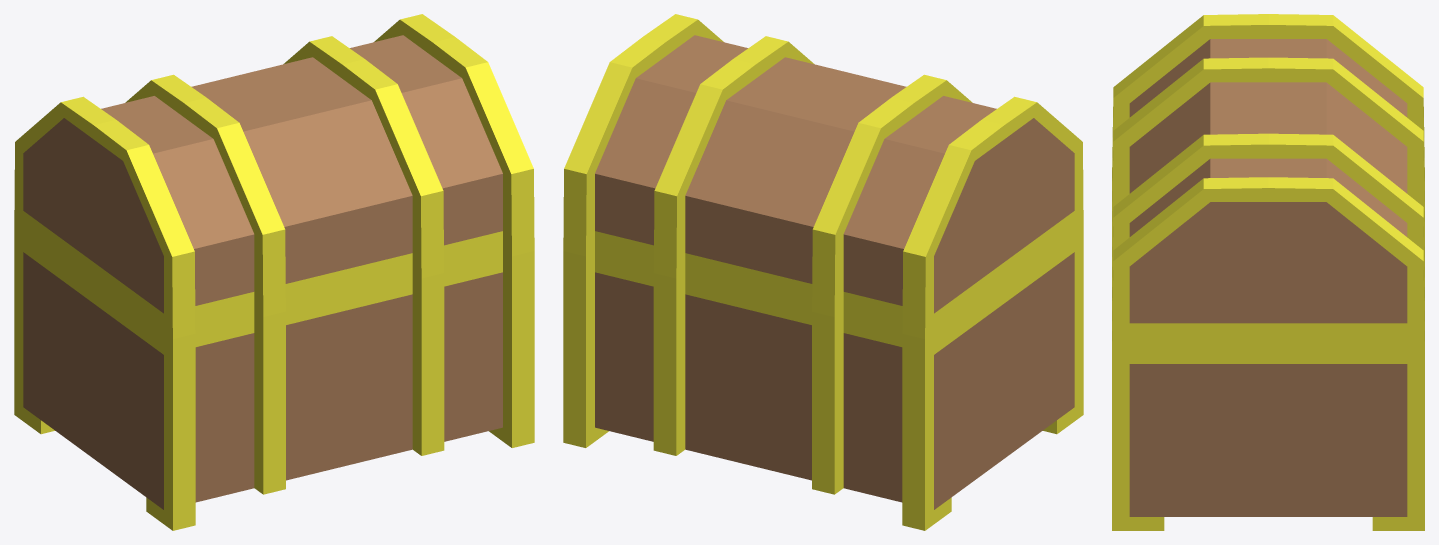
File: ChestEmissive.fbx
The picture shows the model from 3 angles, left to right: view 1: azimuth 30°, elevation 25°; view 2: azimuth 150°, elevation 25°; view 3: azimuth 270°, elevation 25°; orthographic projection.
Parts seen in each view (by area): view 1: Chest.002, Chest.003; view 2: Chest.002, Chest.003; view 3: Chest.002, Chest.003.
Part boxes in pixels (x1,y1,x2,y2): Chest.002: (14, 14, 534, 339); Chest.003: (14, 223, 534, 530); Chest.002: (563, 14, 1083, 339); Chest.003: (563, 223, 1083, 530); Chest.002: (1112, 14, 1424, 341); Chest.003: (1112, 179, 1424, 530).
Bounding box in the file's own units: 2 × 1.52 × 1.84.
